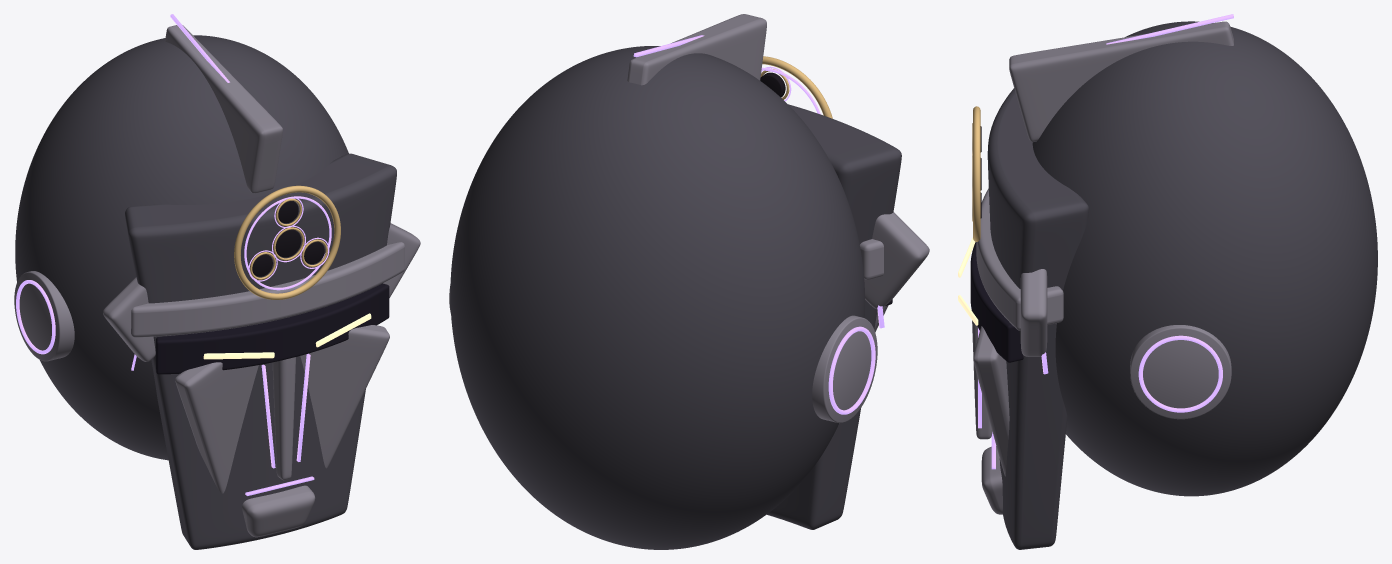
File: head.glb
3 views of the same model, side by side, from view 1: azimuth 30°, elevation 25°; view 2: azimuth 150°, elevation 25°; view 3: azimuth 270°, elevation 25° (orthographic). The views are drawn at different scales.
Parts seen in each view (by area): view 1: cranium, mask, brow, visor, cheek_1, cheek_-1, crest, ear_-1, chin, ridge, emblem_ring, temple_-1 (+5 smaller); view 2: cranium, mask, ear_-1, crest, temple_-1, ear_ring_-1, brow, emblem_ring; view 3: cranium, mask, crest, ear_1, brow, cheek_1, temple_1, visor, ear_ring_1, emblem_ring, chin, ridge (+1 smaller).
Boxes of the visible parts, x1,y1,x2,y2 form: cranium: (15,35,348,460); mask: (125,153,396,549); brow: (131,242,404,337); visor: (156,283,389,374); cheek_1: (300,325,389,468); cheek_-1: (175,362,258,493); crest: (165,25,282,193); ear_-1: (14,271,74,361); chin: (242,485,315,537); ridge: (272,357,295,480); emblem_ring: (234,185,340,299); temple_-1: (103,277,155,361); cranium: (450,46,864,549); mask: (767,104,901,529); ear_-1: (812,315,877,423); crest: (627,14,766,85); temple_-1: (864,212,929,308); ear_ring_-1: (828,326,875,414); brow: (860,239,883,279); emblem_ring: (762,56,832,118); cranium: (1032,21,1377,496); mask: (987,88,1088,549); crest: (1009,21,1233,142); ear_1: (1130,325,1231,419); brow: (976,188,1063,330); cheek_1: (973,326,1009,476); temple_1: (1020,269,1047,356); visor: (970,242,1023,362); ear_ring_1: (1138,335,1222,412); emblem_ring: (973,106,980,241); chin: (981,446,1002,514); ridge: (971,310,992,439).
Bounding box in the file's own units: 7.72 × 10.24 × 7.86.
